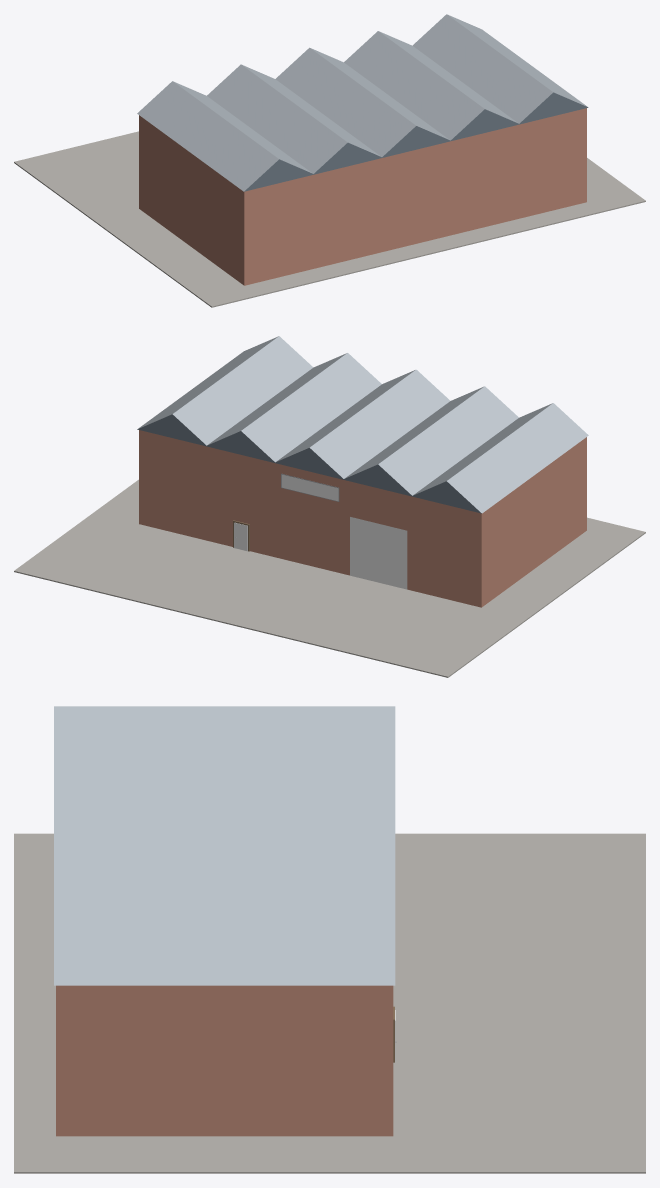
Rendered from furniture_factory.glb.
3 renders of one model, top to bottom at view 1: azimuth 30°, elevation 25°; view 2: azimuth 150°, elevation 25°; view 3: azimuth 270°, elevation 25°, orthographic. The views are drawn at different scales.
Parts seen in each view (by area): view 1: furniture_factory; view 2: furniture_factory; view 3: furniture_factory.
Part boxes in pixels (left/top/right/bottom): furniture_factory: left=14, top=14, right=645, bottom=307; furniture_factory: left=14, top=336, right=645, bottom=677; furniture_factory: left=14, top=706, right=645, bottom=1173.
Size of what is drawn, in the model's own units: 38 by 10.15 by 30.
